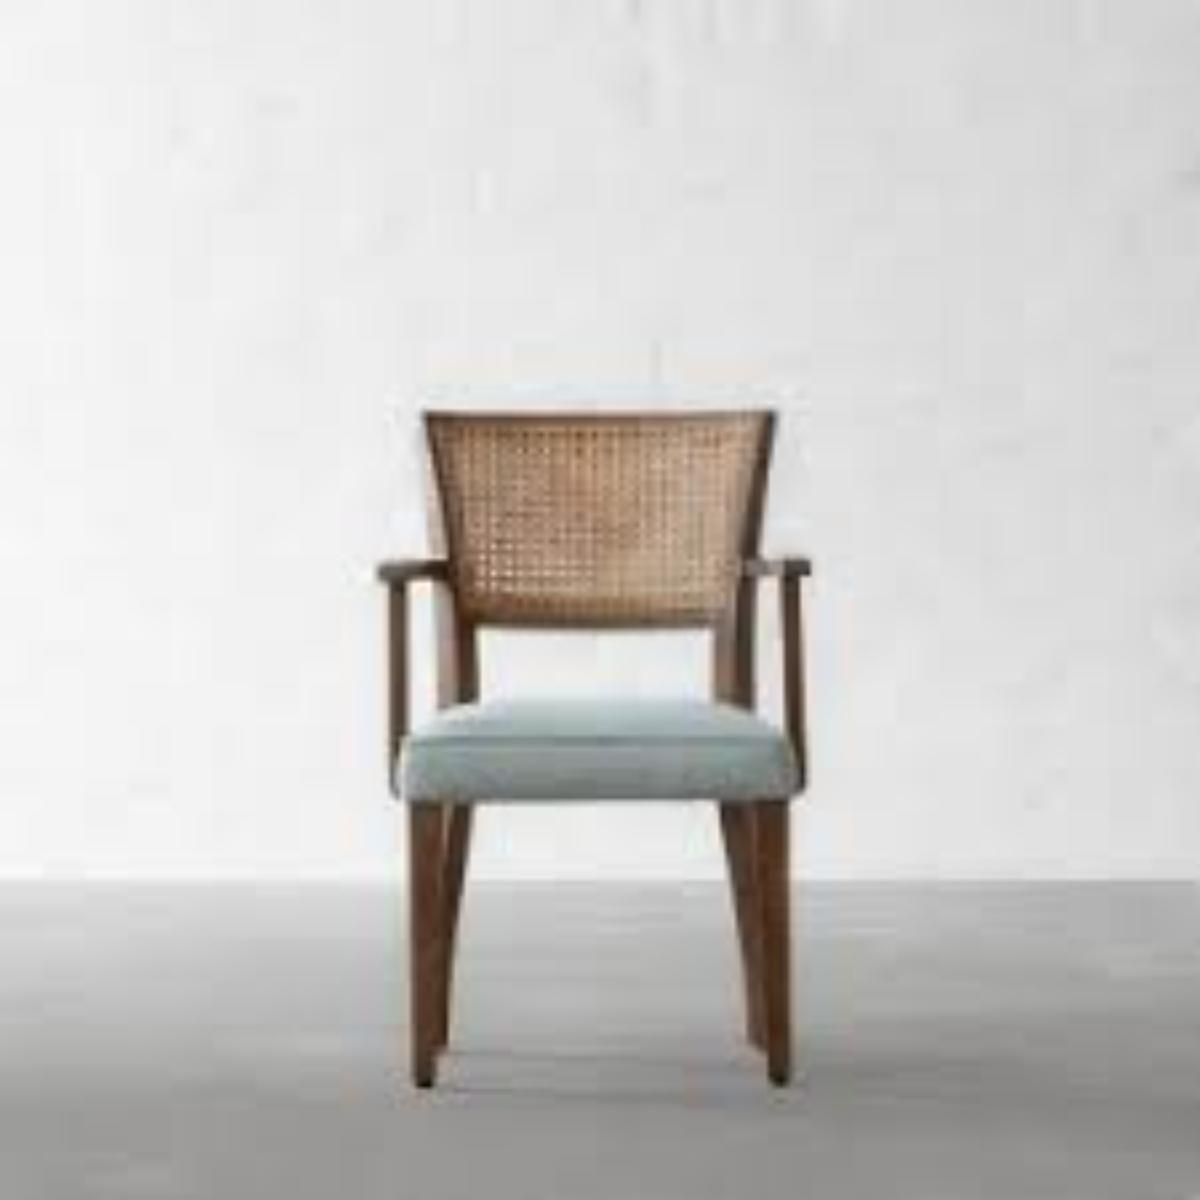Chair: (370, 407, 817, 1095)
